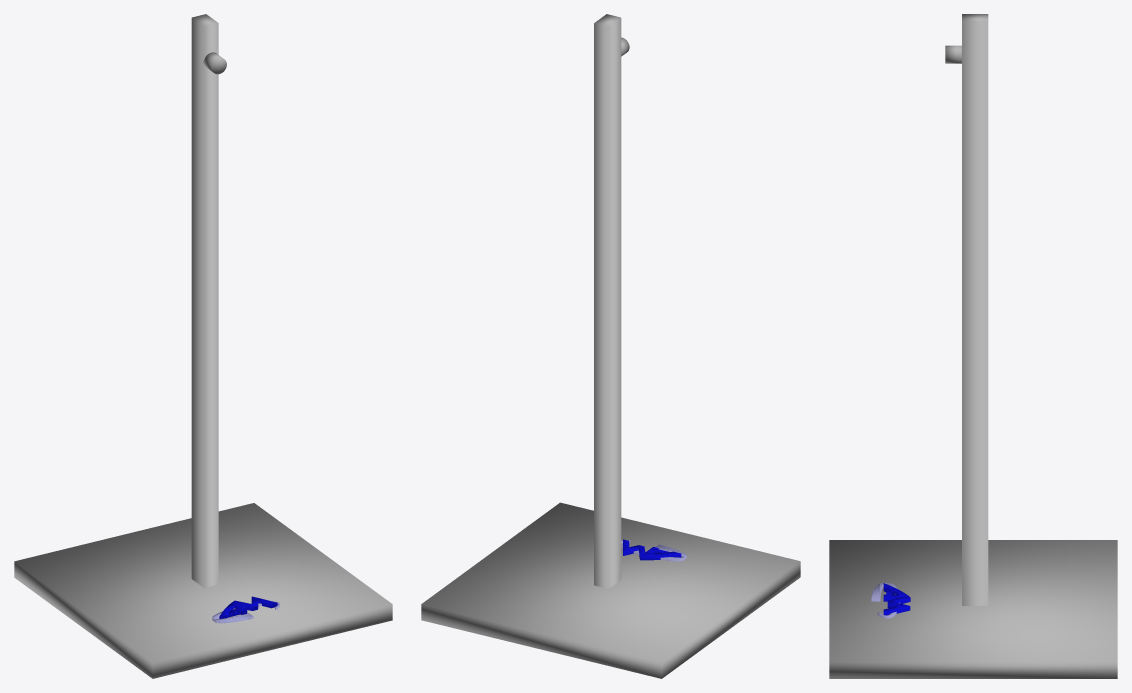
The model's file is stativ.obj.
3 views of the same model, side by side, from view 1: azimuth 30°, elevation 25°; view 2: azimuth 150°, elevation 25°; view 3: azimuth 270°, elevation 25° (orthographic). The views are drawn at different scales.
Parts seen in each view (by area): view 1: Cube; view 2: Cube; view 3: Cube.
Part boxes in pixels (left/top/right/bottom): Cube: left=14, top=14, right=392, bottom=678; Cube: left=421, top=14, right=800, bottom=678; Cube: left=829, top=14, right=1117, bottom=678.
Bounding box in the file's own units: 4.9 × 11.28 × 4.9.
